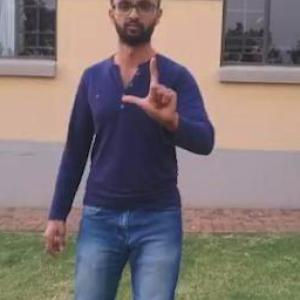land_hand: (115, 48, 190, 136)
